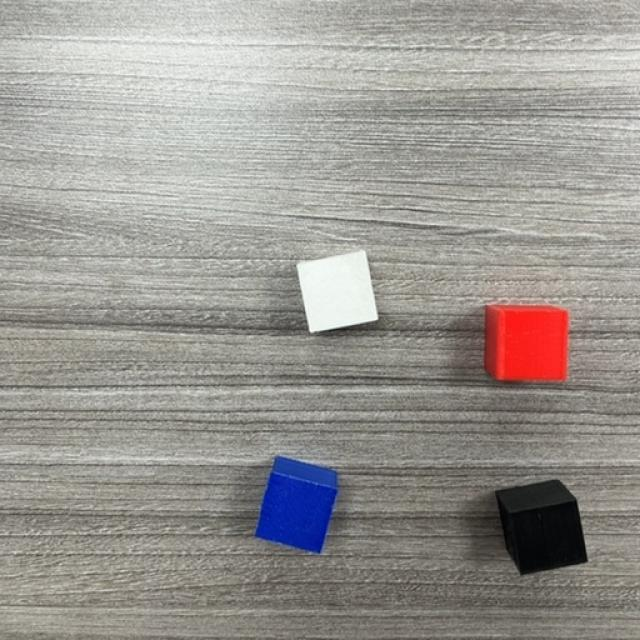Azul: (255, 456, 339, 554)
Blanco: (297, 251, 376, 333)
Negro: (510, 501, 587, 577)
Rojo: (488, 306, 568, 382)
